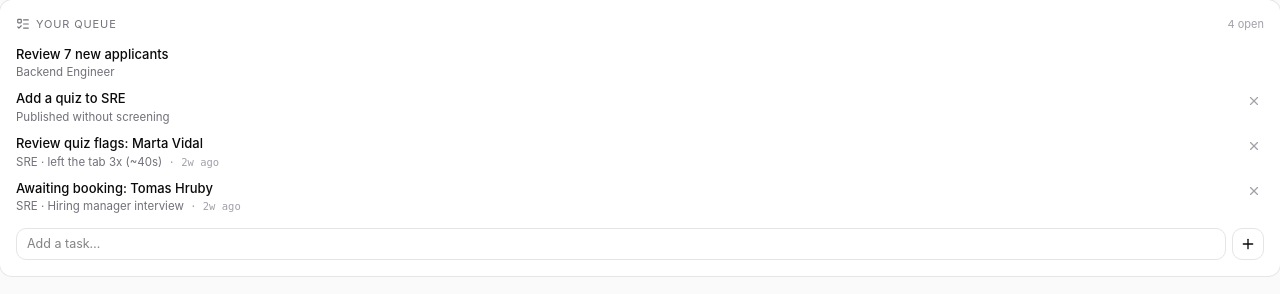
Test: QueuePanel › dismisses a derived item optimistically and tells the backend
Check: the text "Add a quiz to SRE" is shown, box [16,90,126,106]
Click the button named "Dismiss: Add a quiz to SRE".
click(1254, 101)  # box [1244,91,1264,111]
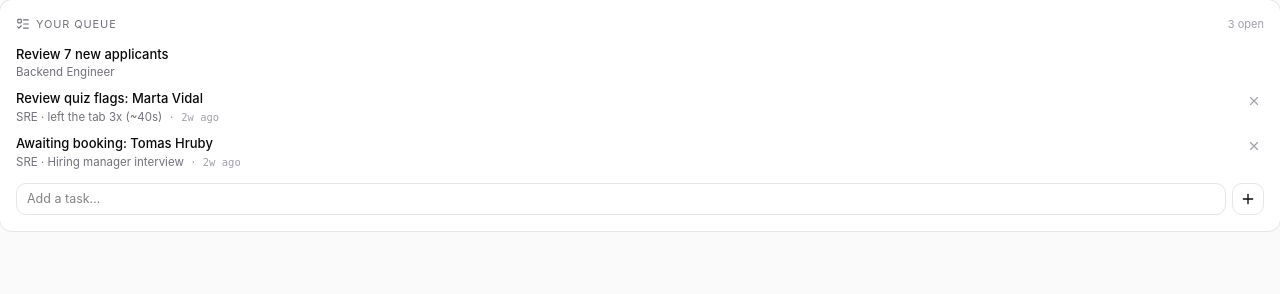
Check: the link "Add a quiz to SRE" is gone
Check: the text "3 open" is shown, box [1228,16,1264,32]
